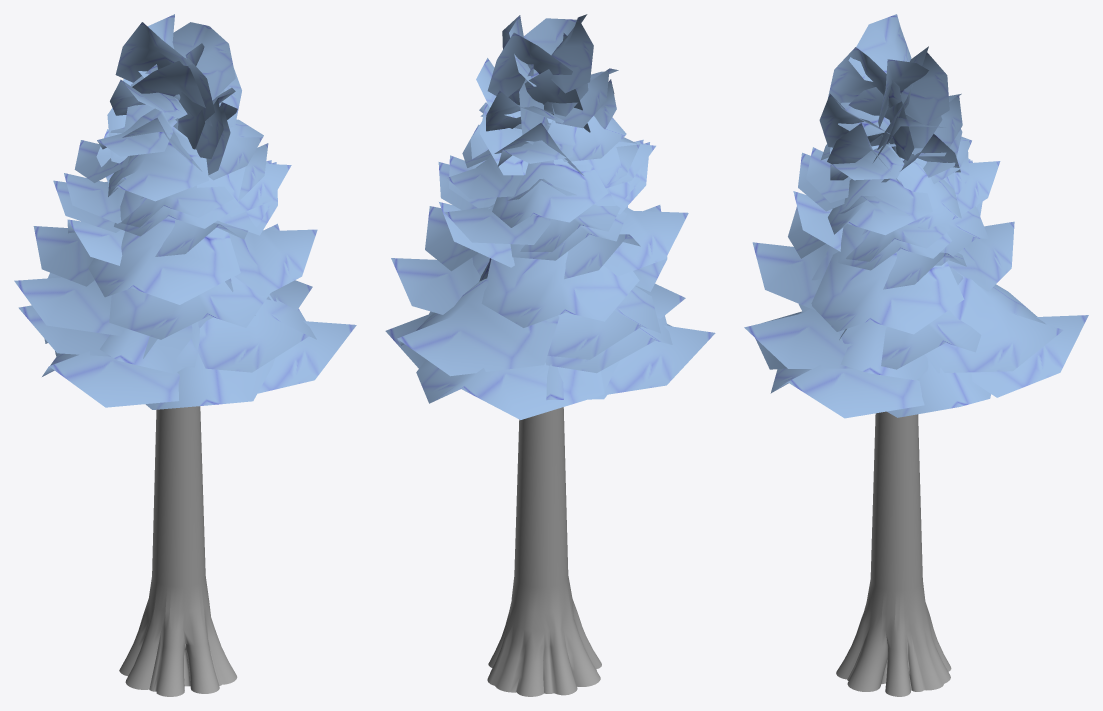
File: SageTree_Trunk_1.fbx
3 views of the same model, side by side, from view 1: azimuth 30°, elevation 25°; view 2: azimuth 150°, elevation 25°; view 3: azimuth 270°, elevation 25° (orthographic). The views are drawn at different scales.
Visible parts, largest first — view 1: Fronds_bigtree, tree_trunk1; view 2: Fronds_bigtree, tree_trunk1; view 3: Fronds_bigtree, tree_trunk1.
Boxes of the visible parts, box(x1,y1,x2,y2) form: Fronds_bigtree: box(14, 14, 356, 409); tree_trunk1: box(119, 406, 237, 696); Fronds_bigtree: box(385, 14, 715, 419); tree_trunk1: box(487, 407, 601, 696); Fronds_bigtree: box(744, 14, 1088, 418); tree_trunk1: box(836, 157, 951, 696).
Size of the model in its own units: 4068 by 9131 by 4444.
